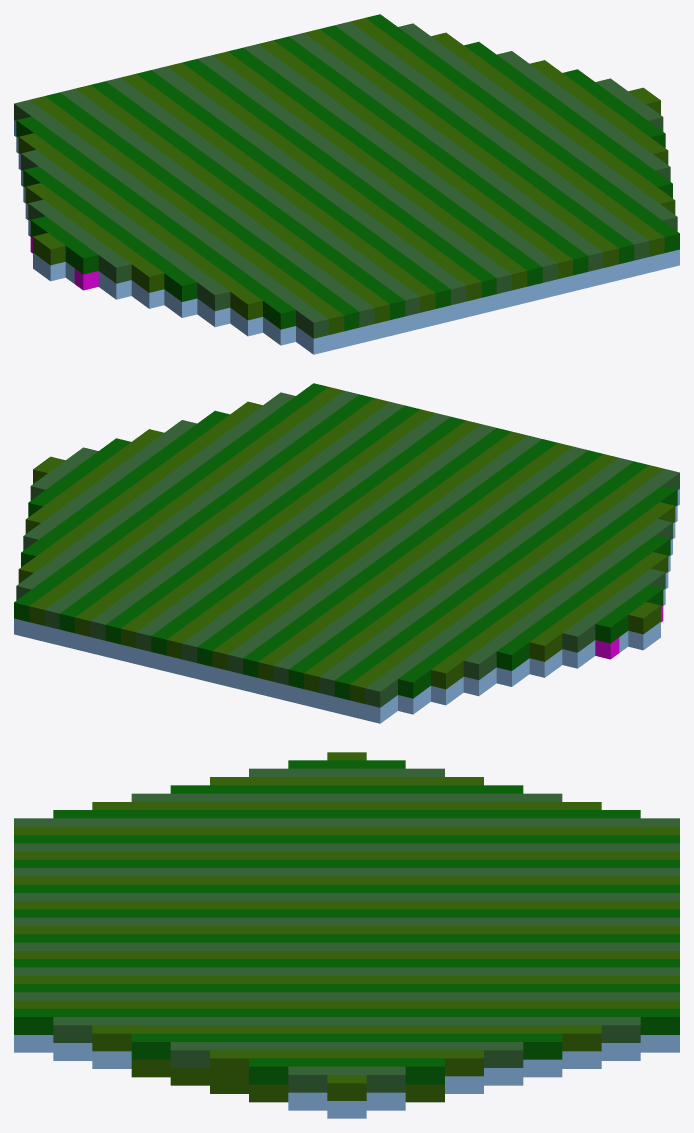
The model's file is hex_grass.obj.
The picture shows the model from 3 angles, top to bottom: view 1: azimuth 30°, elevation 25°; view 2: azimuth 150°, elevation 25°; view 3: azimuth 270°, elevation 25°; orthographic projection. The views are drawn at different scales.
Bounding box in the file's own units: 4 × 0.2 × 3.4.
